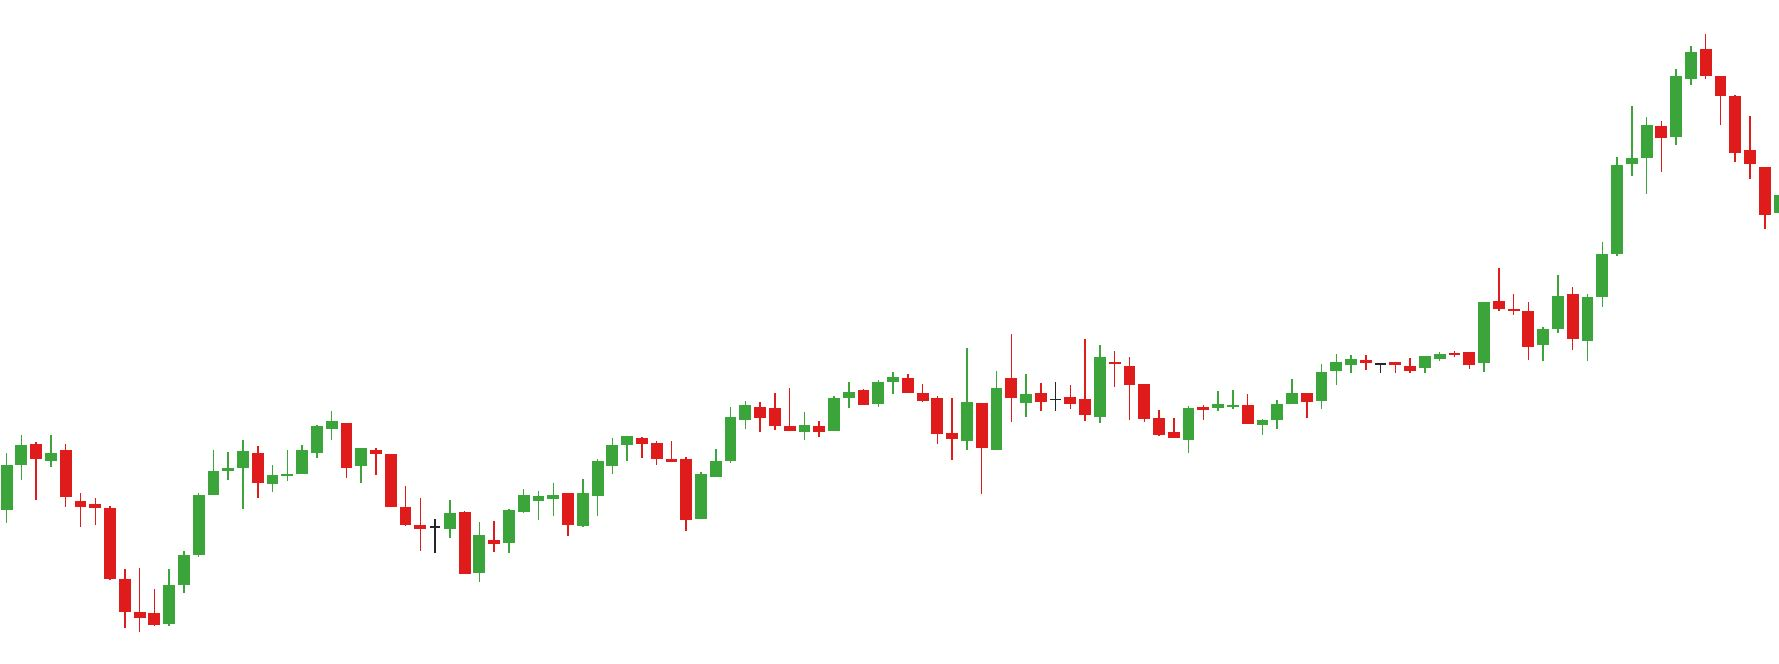buy: (589, 453, 710, 537)
